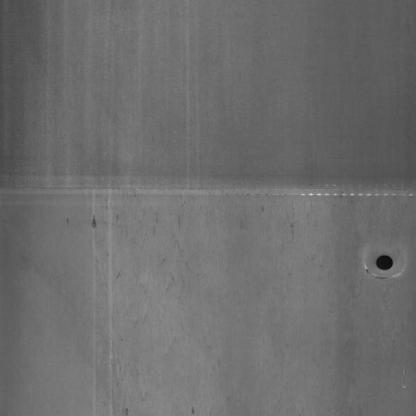punching_hole: (372, 247, 402, 274)
welding_line: (3, 177, 416, 214)
